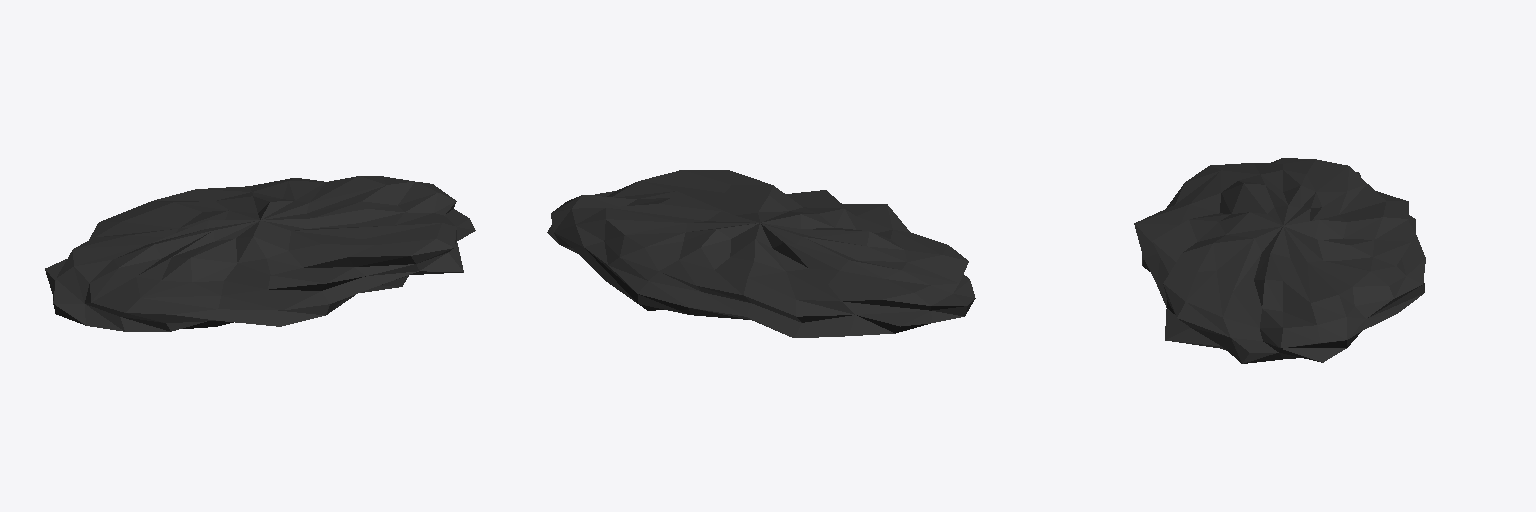
File: cloud_dark.obj
3 renders of one model, left to right at view 1: azimuth 30°, elevation 25°; view 2: azimuth 150°, elevation 25°; view 3: azimuth 270°, elevation 25°, orthographic.
Visible parts, largest first — view 1: Sphere.1; view 2: Sphere.1; view 3: Sphere.1.
Part boxes in pixels (bbox=[...]): Sphere.1: bbox=[45, 176, 475, 331]; Sphere.1: bbox=[547, 170, 975, 337]; Sphere.1: bbox=[1134, 158, 1425, 363].
Bounding box in the file's own units: 3554 × 591 × 2235.